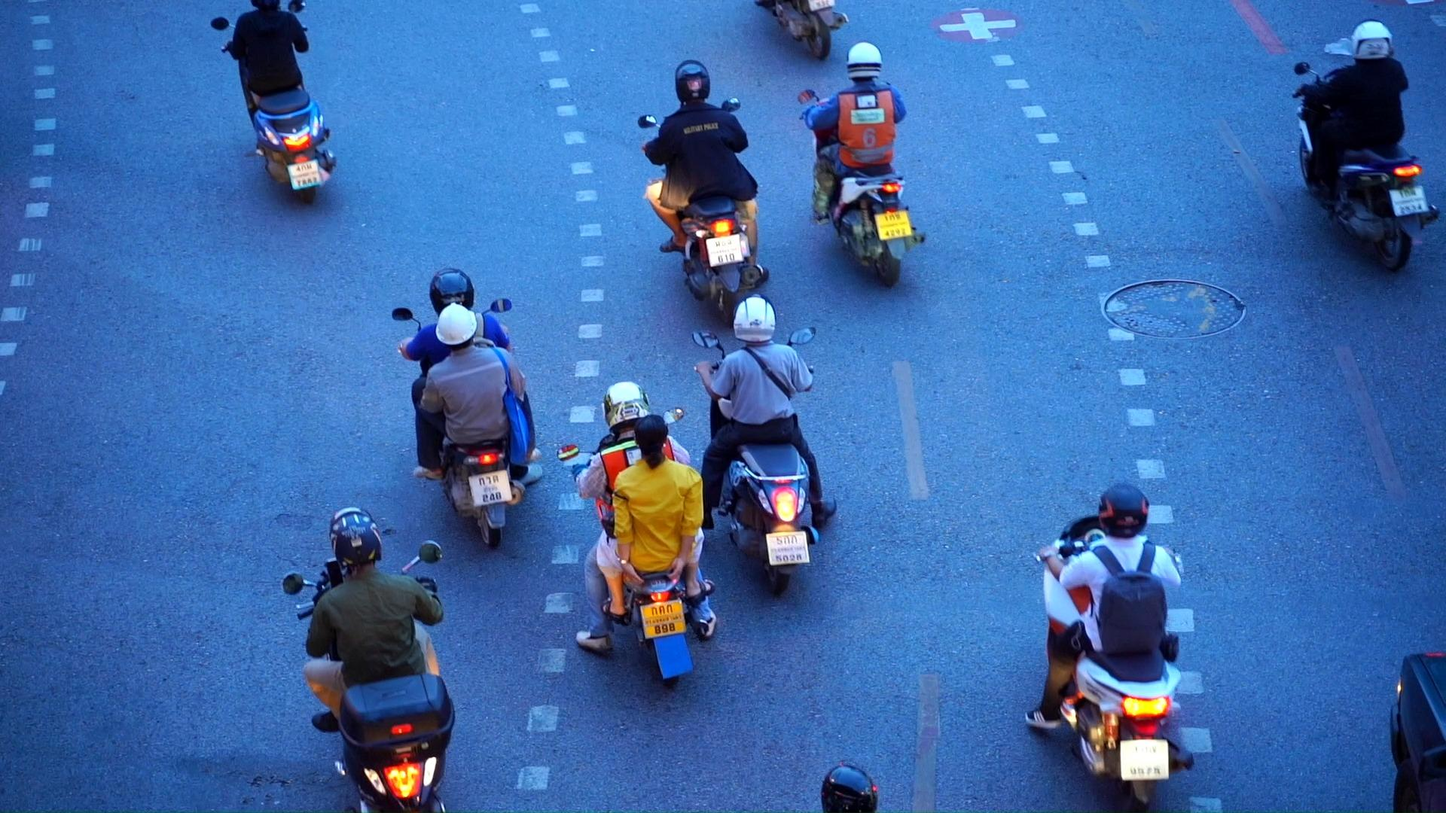driver: (1024, 482, 1195, 813), (283, 505, 456, 813), (555, 381, 717, 690), (692, 293, 836, 596), (391, 268, 543, 548), (1290, 19, 1441, 271), (637, 60, 769, 328), (798, 40, 926, 290), (210, 0, 336, 205)
helmet: (328, 505, 383, 576), (1098, 483, 1150, 538), (821, 765, 878, 813), (604, 382, 652, 435), (429, 268, 475, 318), (733, 292, 778, 343), (435, 302, 478, 353), (1351, 19, 1394, 62), (675, 60, 710, 108), (847, 40, 882, 82)
no-helmet: (633, 414, 669, 470)
